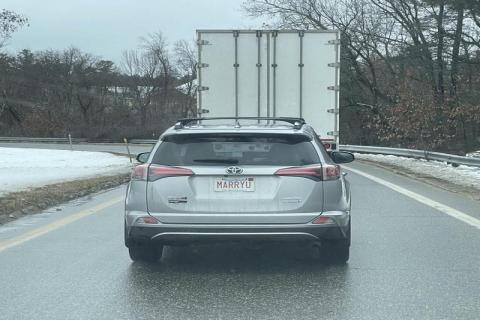LicensePlate: (211, 175, 254, 191)
